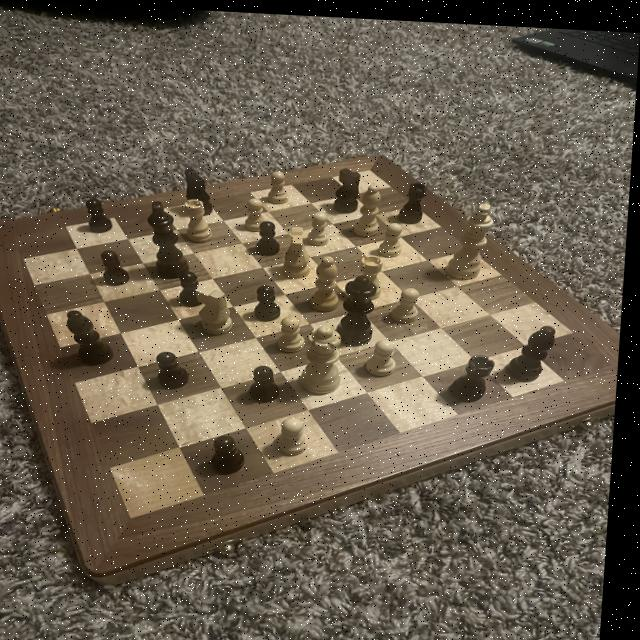bishop: (64, 306, 124, 369), (508, 316, 561, 379)
black-bishop: (145, 196, 204, 283)
black-king: (182, 164, 220, 216), (331, 161, 366, 210)
black-knight: (213, 428, 255, 477), (158, 348, 198, 391), (249, 359, 288, 402), (98, 248, 137, 287), (84, 195, 120, 234), (254, 282, 288, 323), (252, 217, 286, 258), (182, 267, 208, 306)
black-pawn: (334, 269, 384, 345)
black-queen: (448, 348, 503, 399), (397, 176, 432, 221)
black-rook: (310, 250, 346, 310), (352, 177, 387, 237)
white-bishop: (446, 191, 500, 280)
white-king: (194, 279, 240, 334), (283, 220, 318, 278)
white-knight: (276, 412, 316, 453), (367, 331, 404, 375), (277, 311, 311, 353), (242, 192, 276, 232), (390, 281, 424, 319), (379, 216, 408, 255), (266, 165, 294, 202), (308, 207, 335, 245)
white-pawn: (300, 318, 352, 394)
white-queen: (182, 195, 219, 244), (357, 249, 389, 298)
